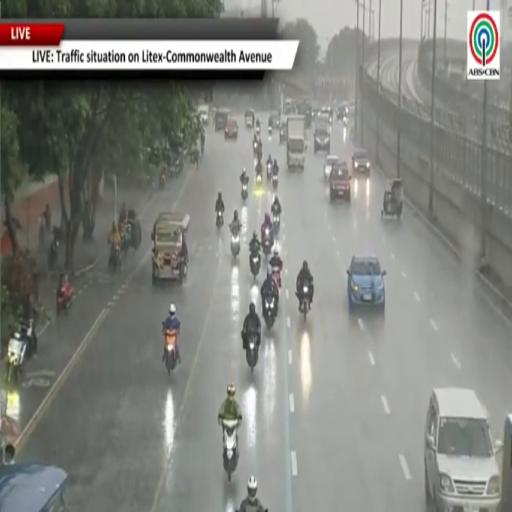car: (424, 388, 502, 511), (347, 253, 386, 311), (329, 162, 351, 202), (314, 120, 330, 153), (352, 149, 370, 177), (324, 155, 339, 180), (298, 101, 312, 127), (315, 112, 332, 133), (214, 109, 230, 131), (225, 119, 238, 139), (198, 104, 209, 125), (268, 111, 279, 129), (336, 106, 348, 122), (279, 120, 287, 143), (322, 106, 332, 123), (245, 109, 254, 127)
jeepney: (0, 464, 69, 511), (152, 213, 189, 283)
motorcycle: (7, 318, 35, 382), (222, 420, 239, 482), (7, 333, 28, 382), (164, 330, 178, 374), (56, 281, 73, 315), (246, 333, 258, 373), (263, 297, 276, 328), (48, 237, 59, 270), (109, 245, 121, 273), (122, 222, 131, 259), (300, 285, 309, 321), (262, 228, 272, 255), (250, 252, 260, 279), (231, 233, 240, 257), (272, 267, 281, 289), (215, 210, 223, 229), (273, 214, 279, 233), (159, 173, 166, 189), (242, 183, 248, 200), (256, 144, 262, 161), (267, 163, 272, 180), (256, 172, 262, 186), (272, 174, 278, 188), (254, 141, 257, 155), (256, 125, 260, 135), (268, 125, 272, 135), (236, 509, 240, 511)
tricycle: (381, 180, 403, 218)
truck: (287, 116, 306, 169)
